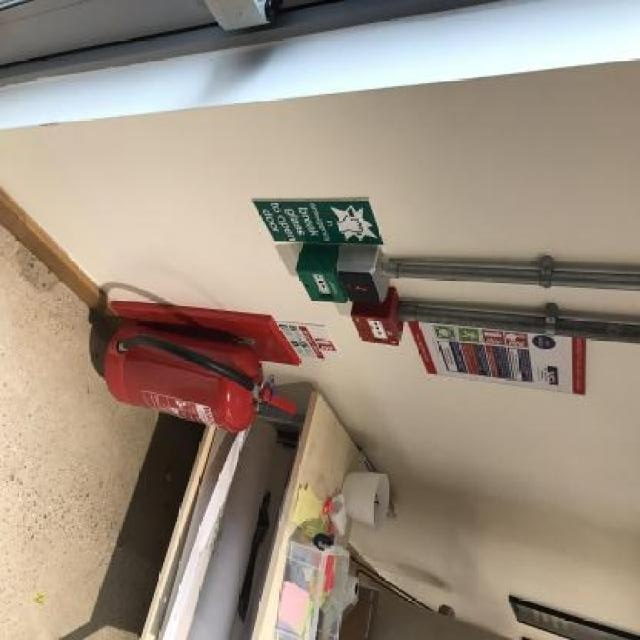fire extinguisher: (103, 321, 297, 435)
